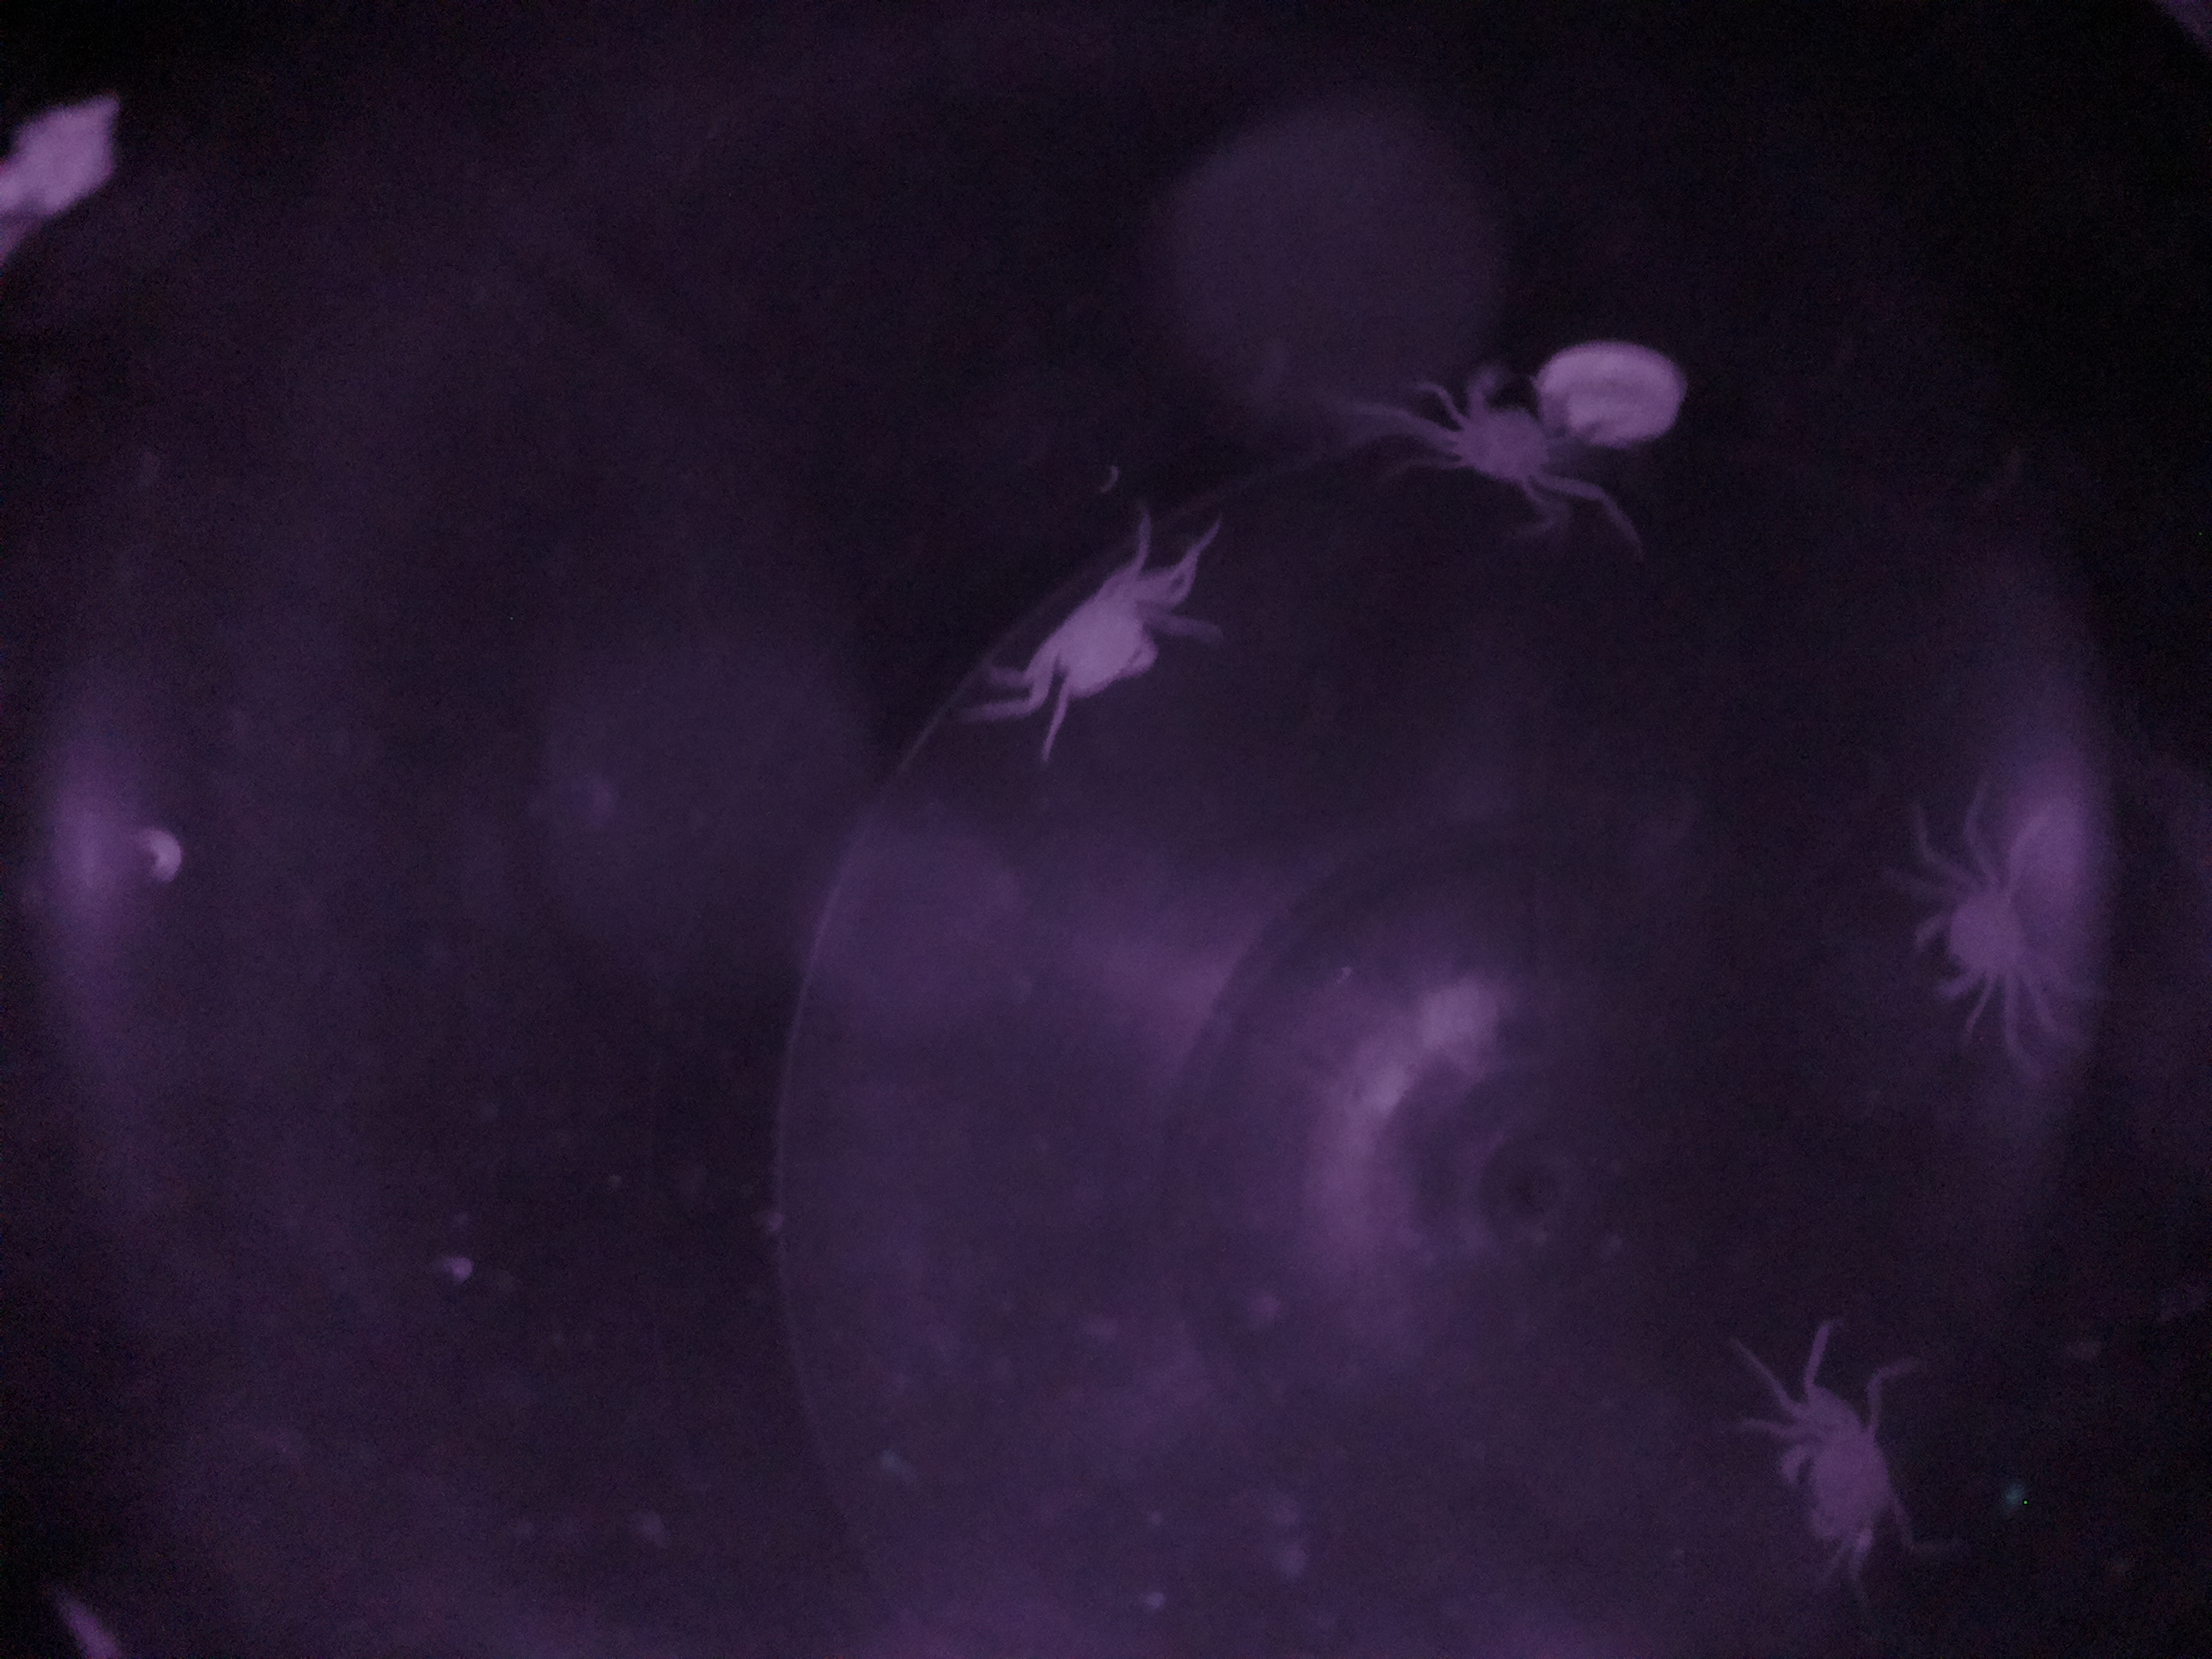Crab: (1883, 826, 2078, 1039), (1759, 1368, 1909, 1600), (989, 552, 1179, 730), (1421, 338, 1602, 518)
